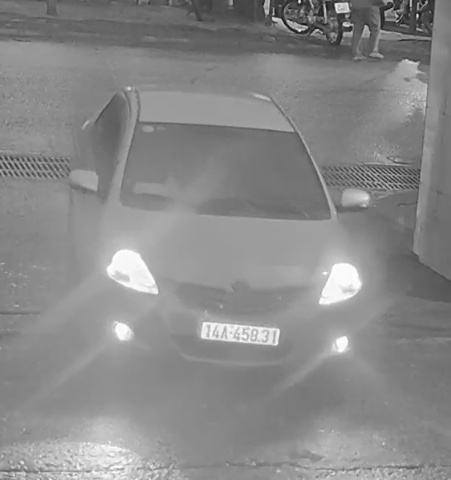vehicle plate: (200, 315, 281, 355)
